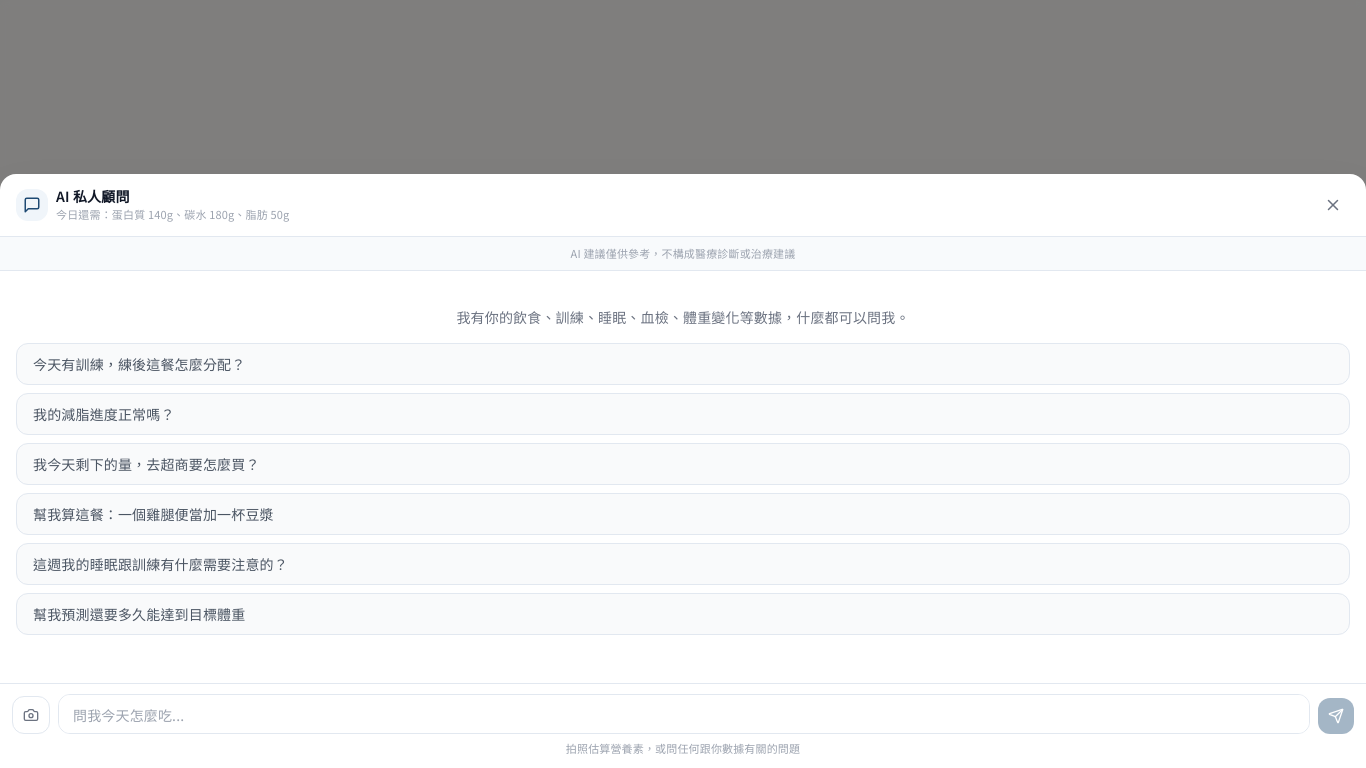
Test: AiChatDrawer › populates input when quick question is clicked
Click the button "我今天剩下的量，去超商要怎麼買？" at (146, 464), box [16,443,1350,485]
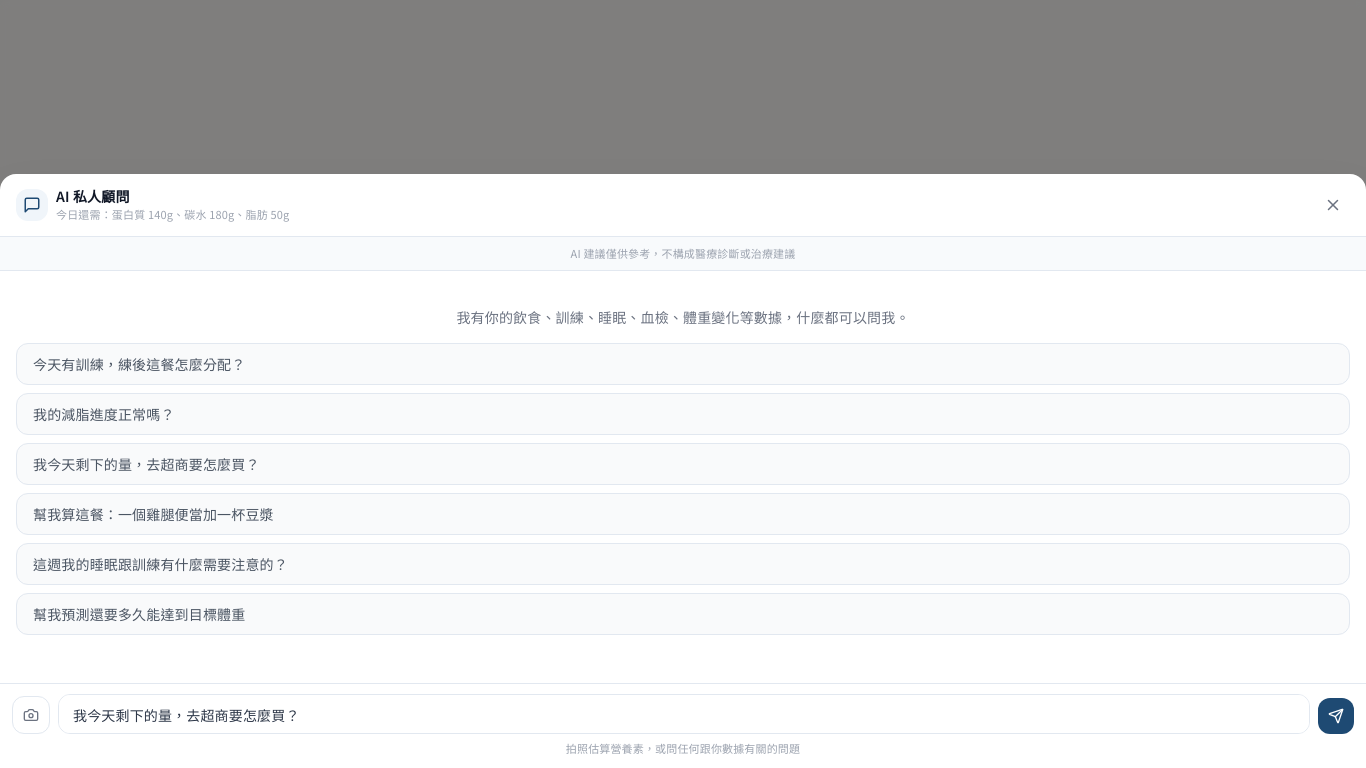
Check: the text box holds "我今天剩下的量，去超商要怎麼買？", box [58,694,1310,734]
